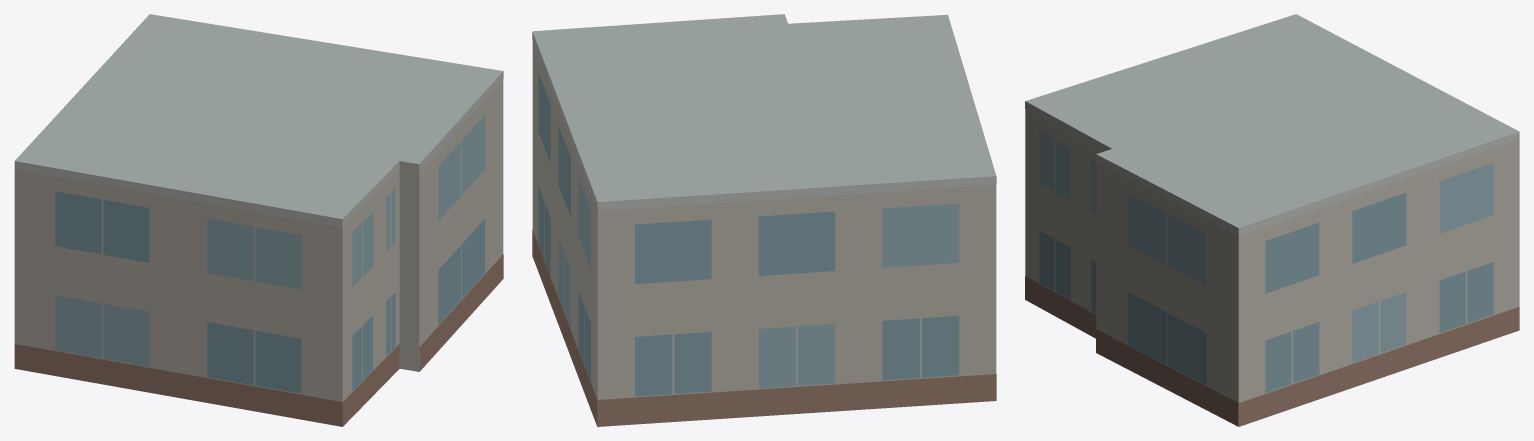
File: survey-upis-32492887.glb
3 renders of one model, left to right at view 1: azimuth 30°, elevation 25°; view 2: azimuth 150°, elevation 25°; view 3: azimuth 270°, elevation 25°, orthographic. The views are drawn at different scales.
Parts seen in each view (by area): view 1: survey-upis-32492887.tmp; view 2: survey-upis-32492887.tmp; view 3: survey-upis-32492887.tmp.
Part boxes in pixels (<box>): survey-upis-32492887.tmp: <box>14,14,503,426</box>; survey-upis-32492887.tmp: <box>532,14,996,426</box>; survey-upis-32492887.tmp: <box>1025,14,1519,426</box>.
Size of the model in its own units: 14.34 by 6.2 by 13.99.
